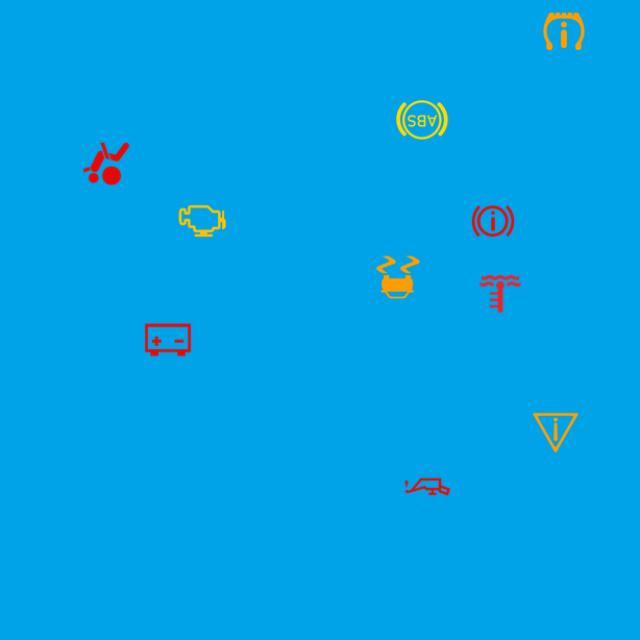Anti Lock Braking System: (394, 92, 450, 148)
Braking System Issue: (465, 193, 521, 249)
Charging System Issue: (140, 312, 196, 368)
Check Engine: (174, 193, 230, 249)
Electronic Stability Problem -ESP-: (370, 249, 426, 306)
Engine Overheating Warning Light: (472, 266, 529, 322)
Low Engine Oil Warning Light: (399, 459, 456, 515)
Low Tire Pressure Warning Light: (536, 3, 592, 60)
Master warning light: (527, 404, 584, 461)
SRS-Airbag: (78, 135, 135, 192)
